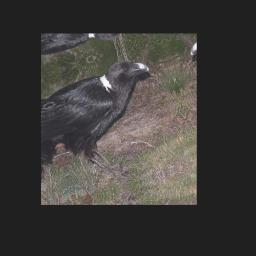Crow: (44, 51, 175, 201)
